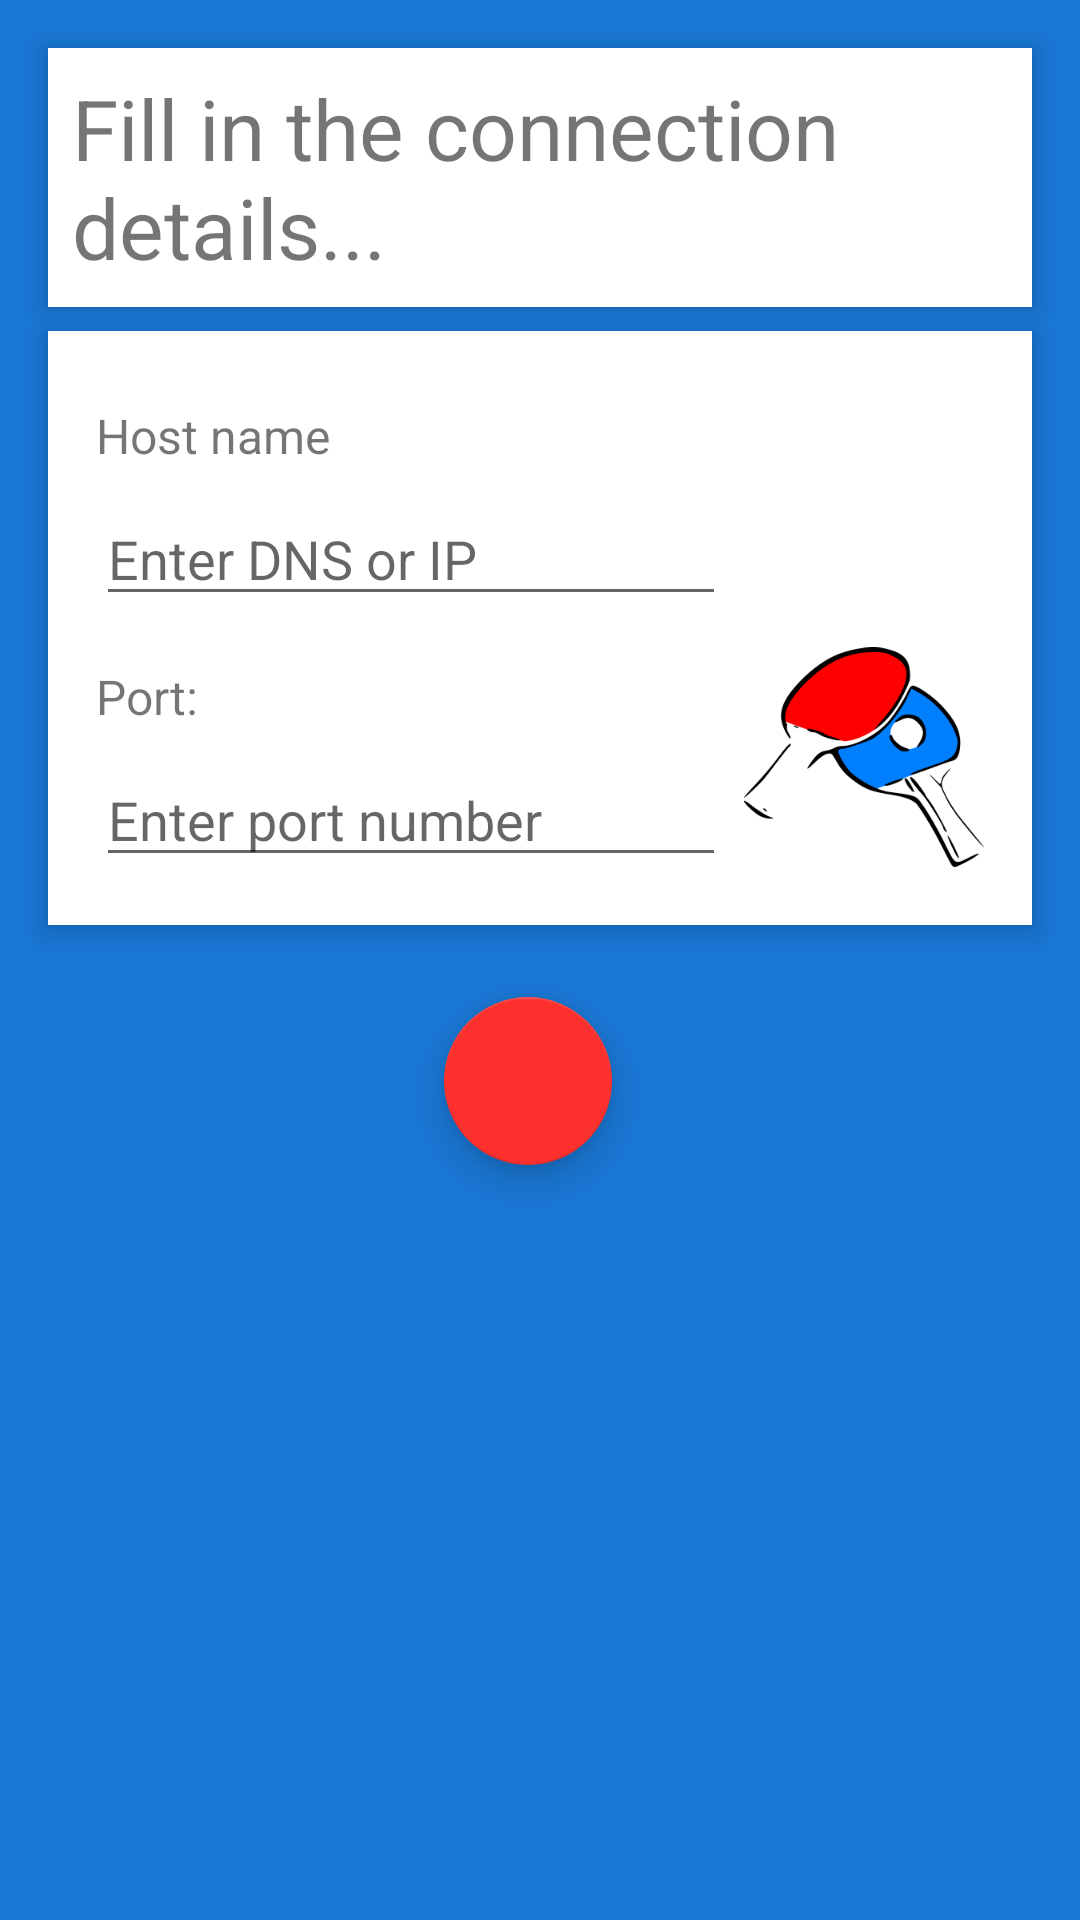

Point at icon controls on the screen. Image size 1080×1920, points as point (x, y).
table tennis: point (864, 757)
